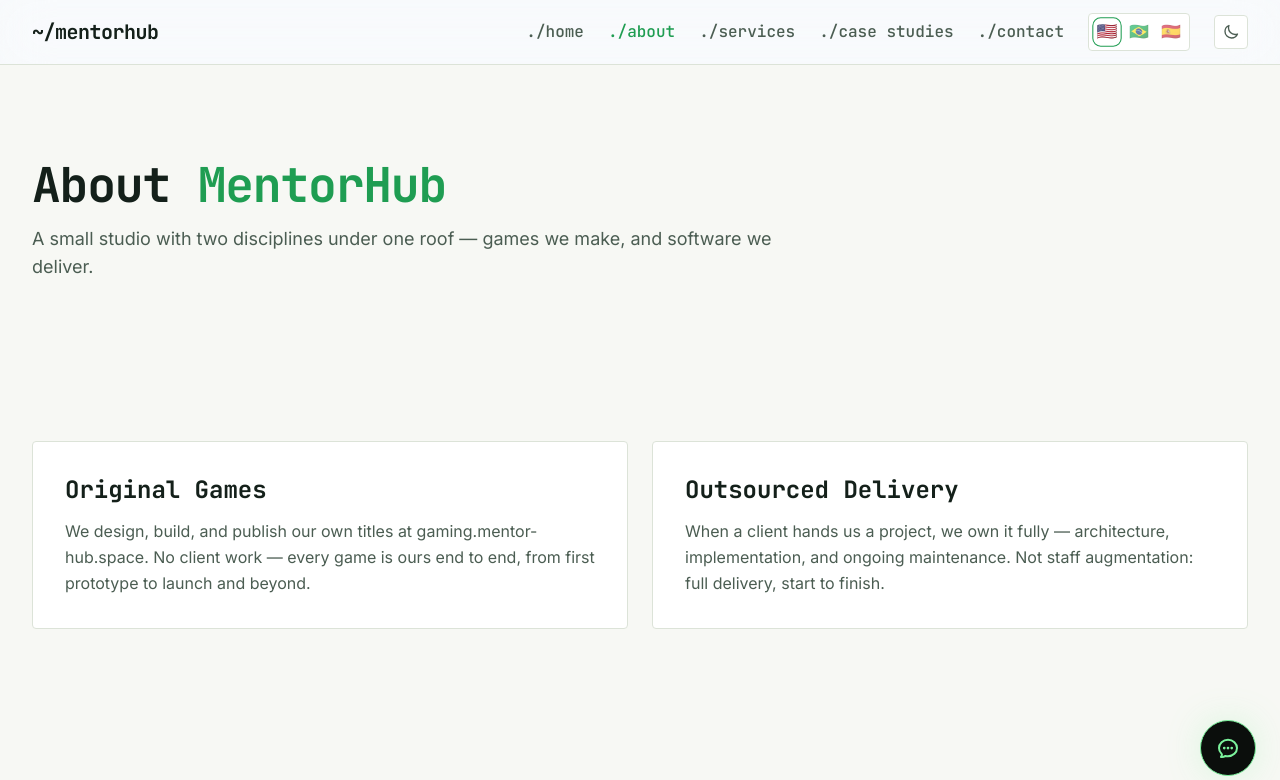
chatbot integration › navigates from the About page to the real Contact page when the user asks to get in touch
Expected: the heading "About MentorHub" is shown, [32,153,446,216]
Click the button named "Open chat" at (1228, 748), box [1200,720,1256,776]
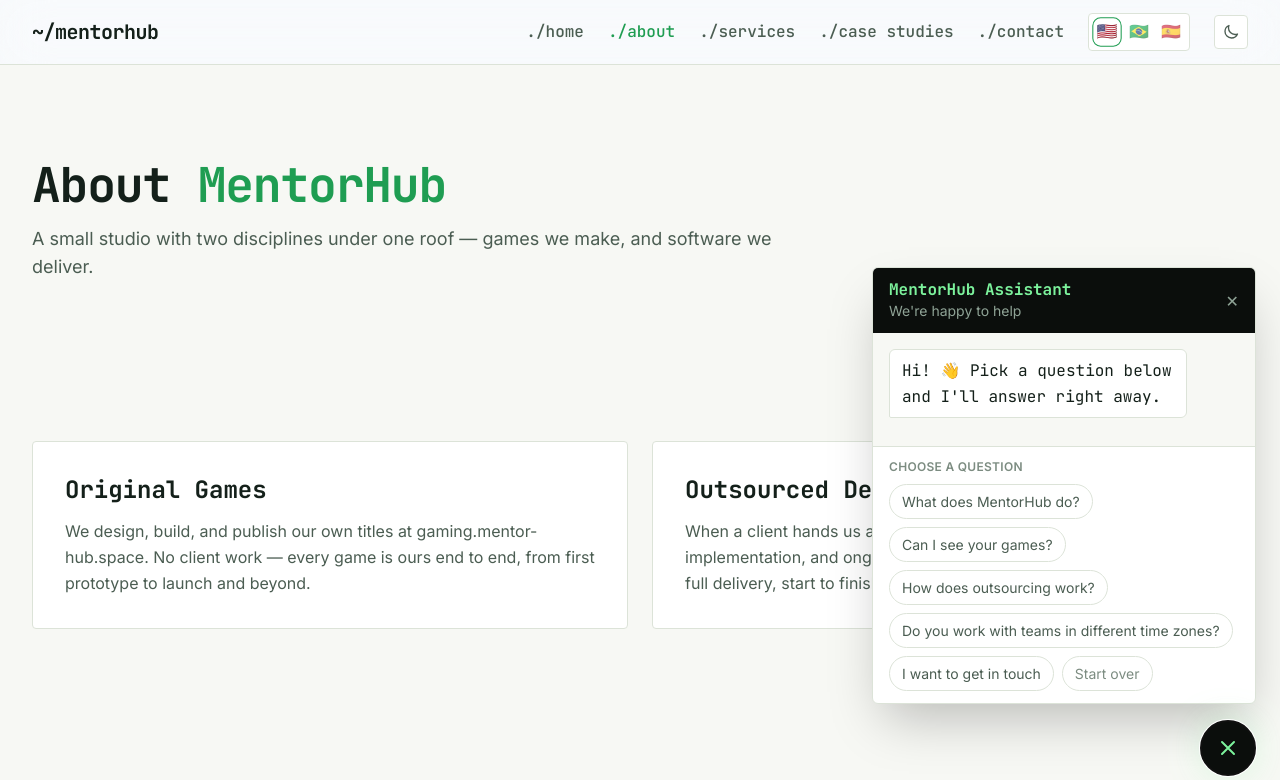
Click the button "I want to get in touch" at (971, 674), box [889,656,1054,691]
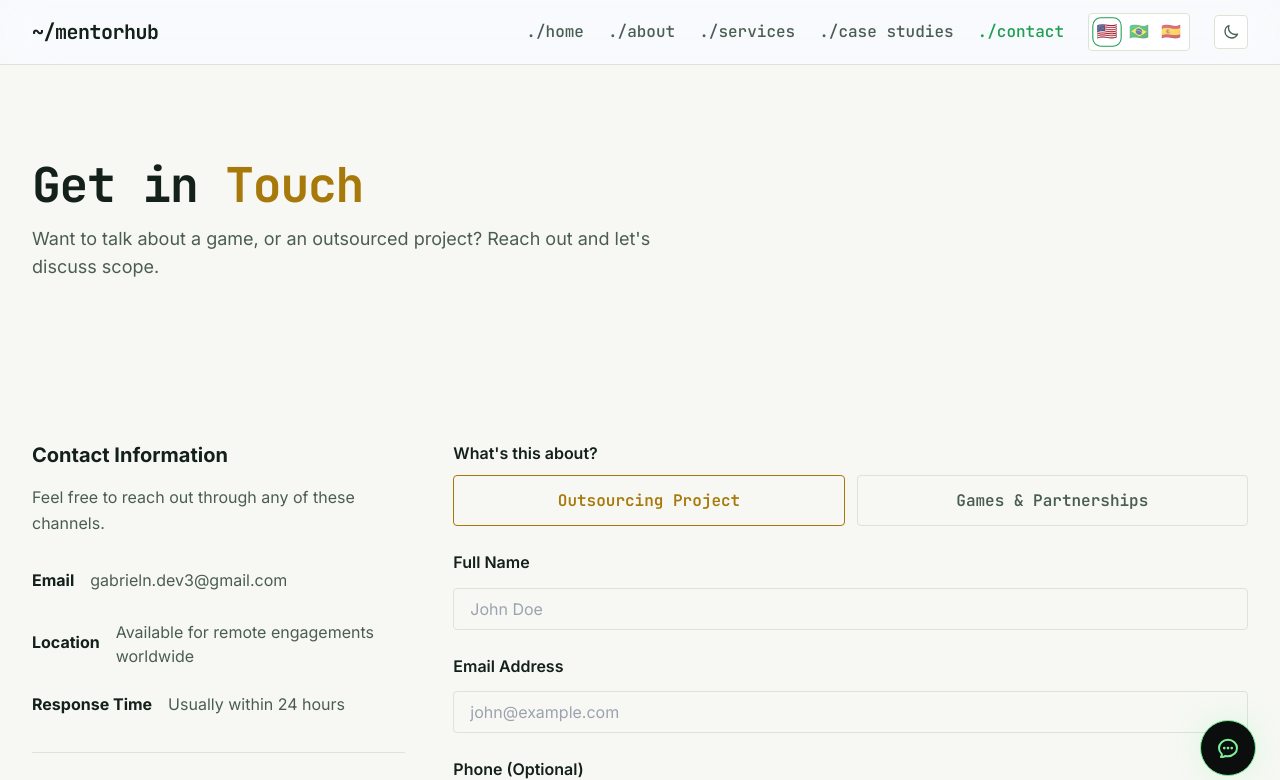
Now the field labelled "Full Name" is shown, box [453,588,1248,630]
Now the dialog is gone
